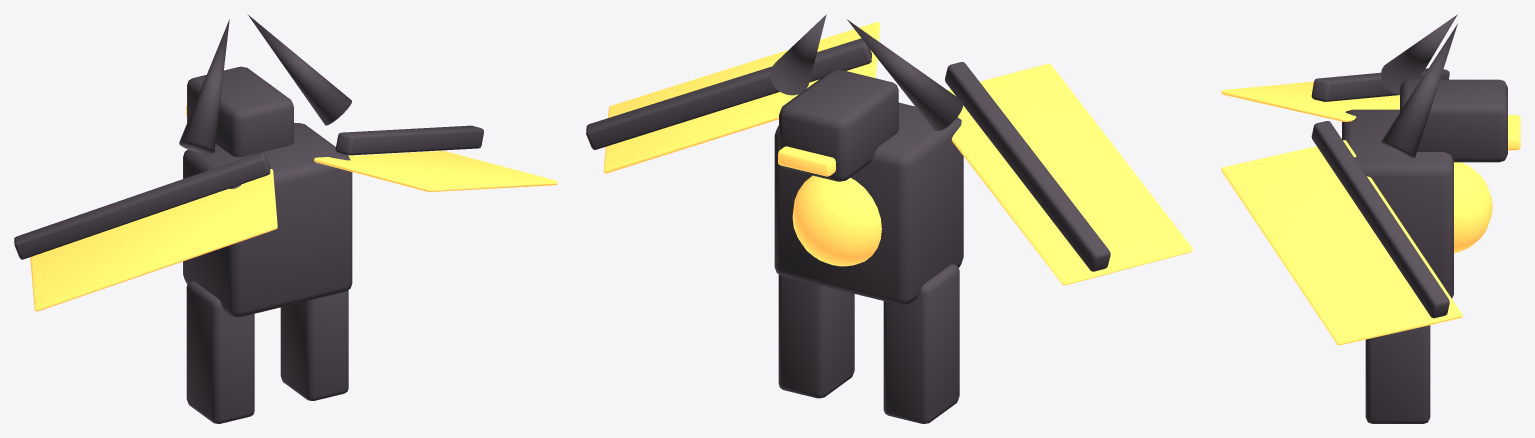
File: boss_ignis_valkor.glb
3 views of the same model, side by side, from view 1: azimuth 30°, elevation 25°; view 2: azimuth 150°, elevation 25°; view 3: azimuth 270°, elevation 25° (orthographic). The views are drawn at different scales.
Parts seen in each view (by area): view 1: StaticBody, Anim_Wing_L, Anim_Wing_R; view 2: StaticBody, Anim_Wing_L, Anim_Wing_R; view 3: StaticBody, Anim_Wing_R, Anim_Wing_L.
Part boxes in pixels (box(x1,y1,x2,y2)): StaticBody: box(179, 14, 352, 423); Anim_Wing_L: box(14, 152, 277, 311); Anim_Wing_R: box(314, 125, 557, 191); StaticBody: box(770, 14, 963, 423); Anim_Wing_L: box(945, 62, 1192, 285); Anim_Wing_R: box(586, 22, 880, 173); StaticBody: box(1342, 14, 1520, 423); Anim_Wing_R: box(1221, 121, 1462, 345); Anim_Wing_L: box(1221, 68, 1449, 121).
Bounding box in the file's own units: 7.22 × 4.79 × 3.48.
